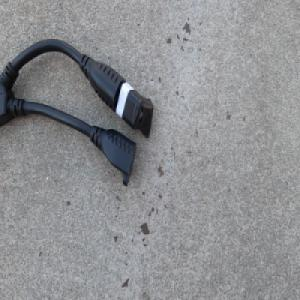Wire: (0, 38, 154, 188)
